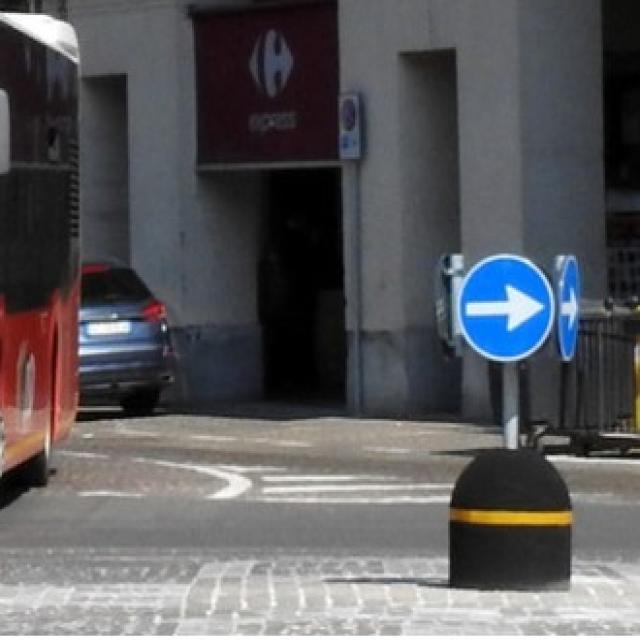bus: (0, 0, 78, 535)
car: (72, 256, 182, 422)
